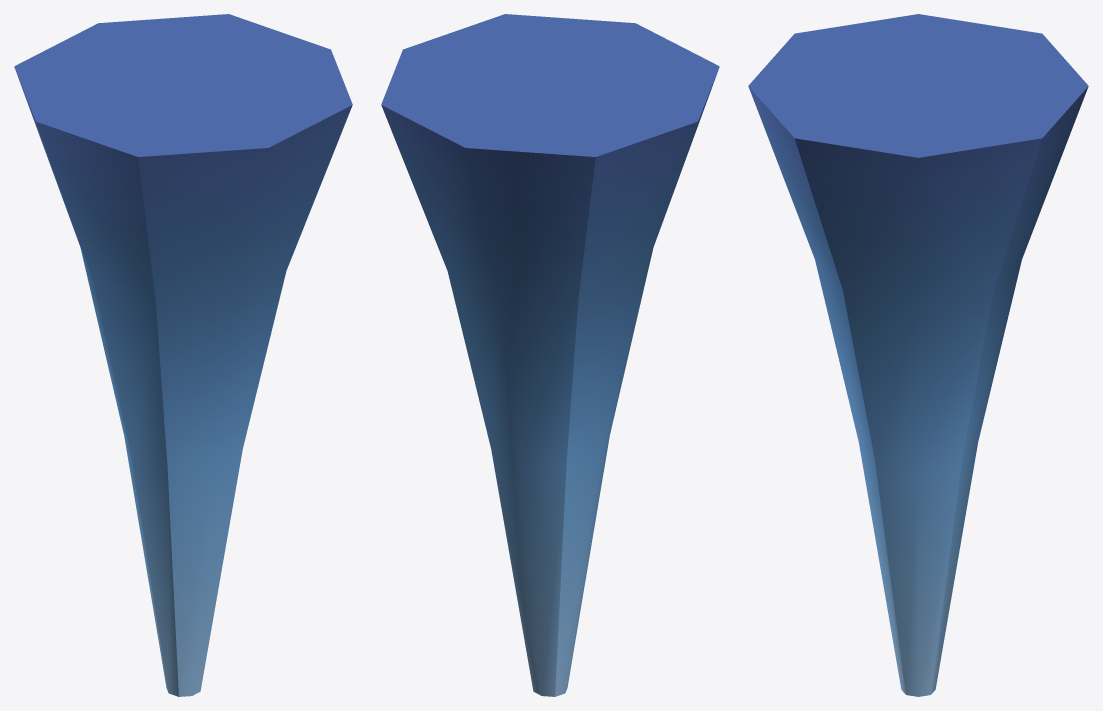
File: icicle02.fbx
3 renders of one model, left to right at view 1: azimuth 30°, elevation 25°; view 2: azimuth 150°, elevation 25°; view 3: azimuth 270°, elevation 25°, orthographic.
Parts seen in each view (by area): view 1: iceicle02; view 2: iceicle02; view 3: iceicle02.
Boxes of the visible parts, x1,y1,x2,y2 form: iceicle02: (14,14,352,696); iceicle02: (381,14,719,696); iceicle02: (748,14,1088,696).
Size of the model in its own units: 0.5112 by 1 by 0.5112.
